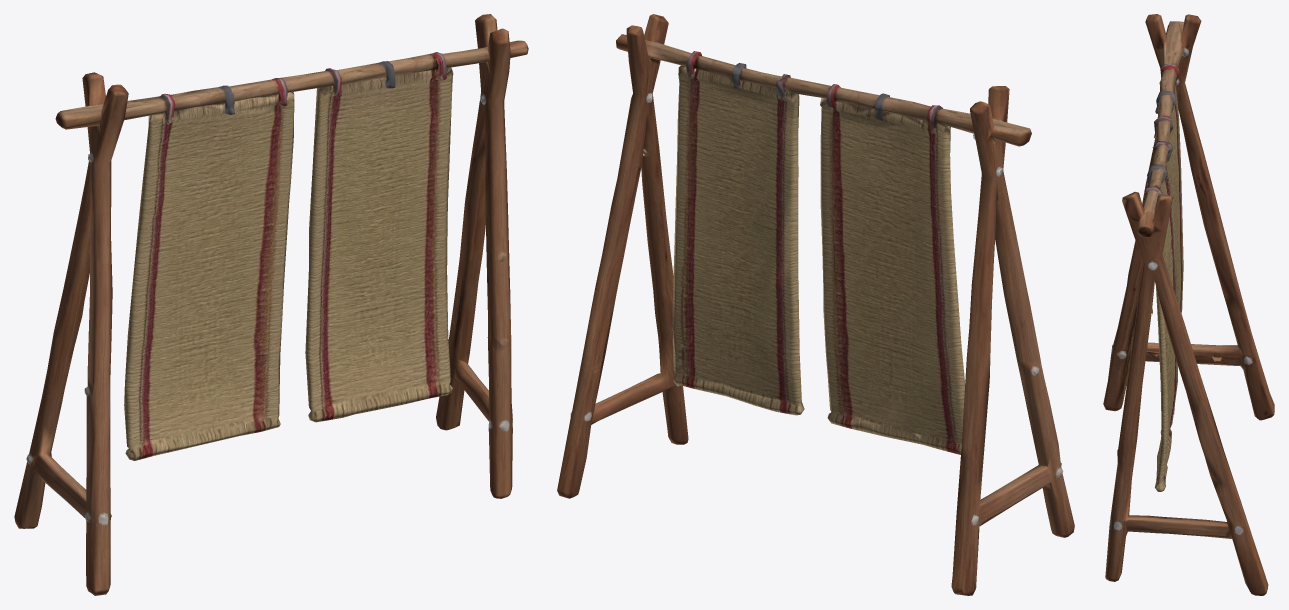
The model's file is mat-rack.glb.
3 views of the same model, side by side, from view 1: azimuth 30°, elevation 25°; view 2: azimuth 150°, elevation 25°; view 3: azimuth 270°, elevation 25° (orthographic). The views are drawn at different scales.
Size of the model in its own units: 1.9 by 1.91 by 0.7176.
1 material, 1 textured.
